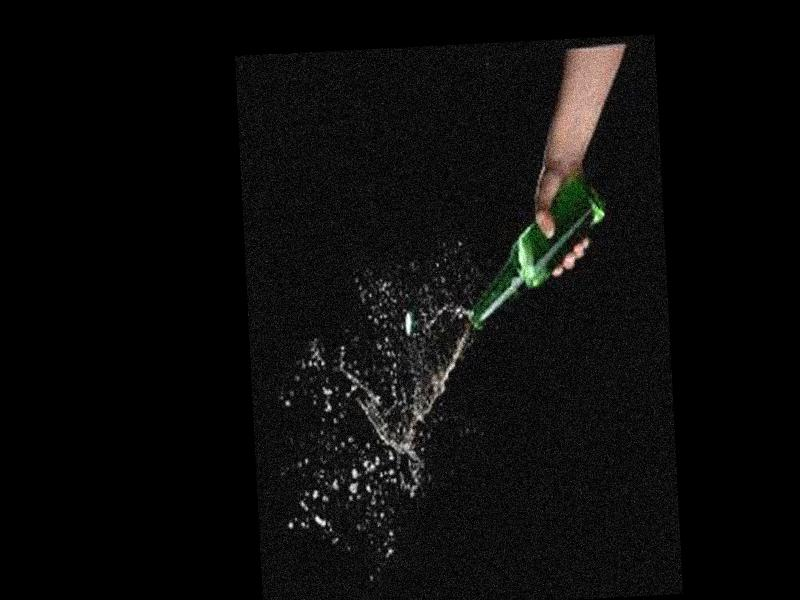Beer: (461, 168, 613, 327)
